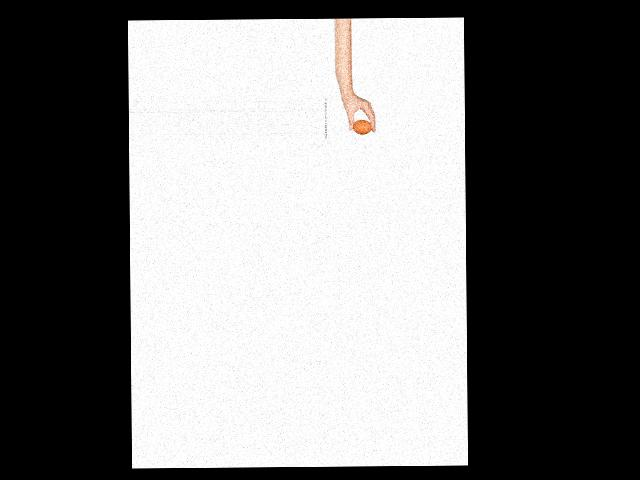egg: (352, 120, 372, 134)
